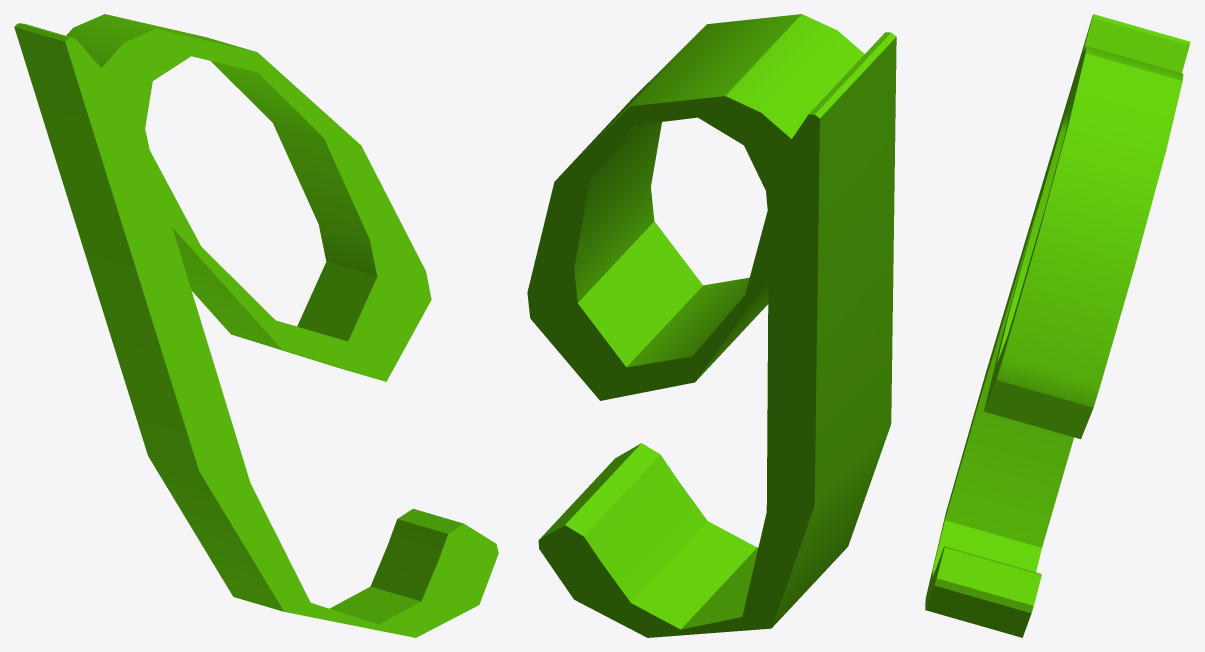
The model's file is g_formula_C.fbx.
3 renders of one model, left to right at view 1: azimuth 30°, elevation 25°; view 2: azimuth 150°, elevation 25°; view 3: azimuth 270°, elevation 25°, orthographic. The views are drawn at different scales.
Parts seen in each view (by area): view 1: g_formula_C; view 2: g_formula_C; view 3: g_formula_C.
Boxes of the visible parts, x1,y1,x2,y2 form: g_formula_C: (14, 14, 498, 637); g_formula_C: (527, 14, 896, 637); g_formula_C: (925, 14, 1190, 637).
Bounding box in the file's own units: 1.47 × 2.51 × 1.18.
